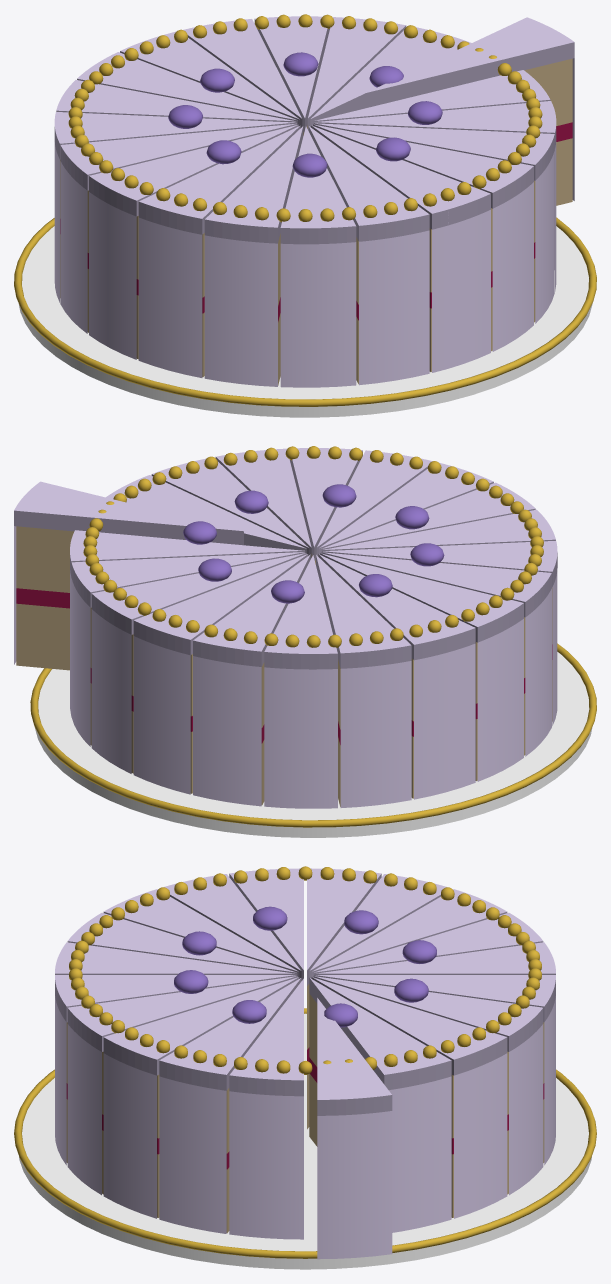
Rendered from torta-30cm-11alto-1p-20porc-lavanda.glb.
3 views of the same model, one above another, from view 1: azimuth 30°, elevation 25°; view 2: azimuth 150°, elevation 25°; view 3: azimuth 270°, elevation 25° (orthographic). The views are drawn at different scales.
Bounding box in the file's own units: 0.3814 × 0.1316 × 0.365.
